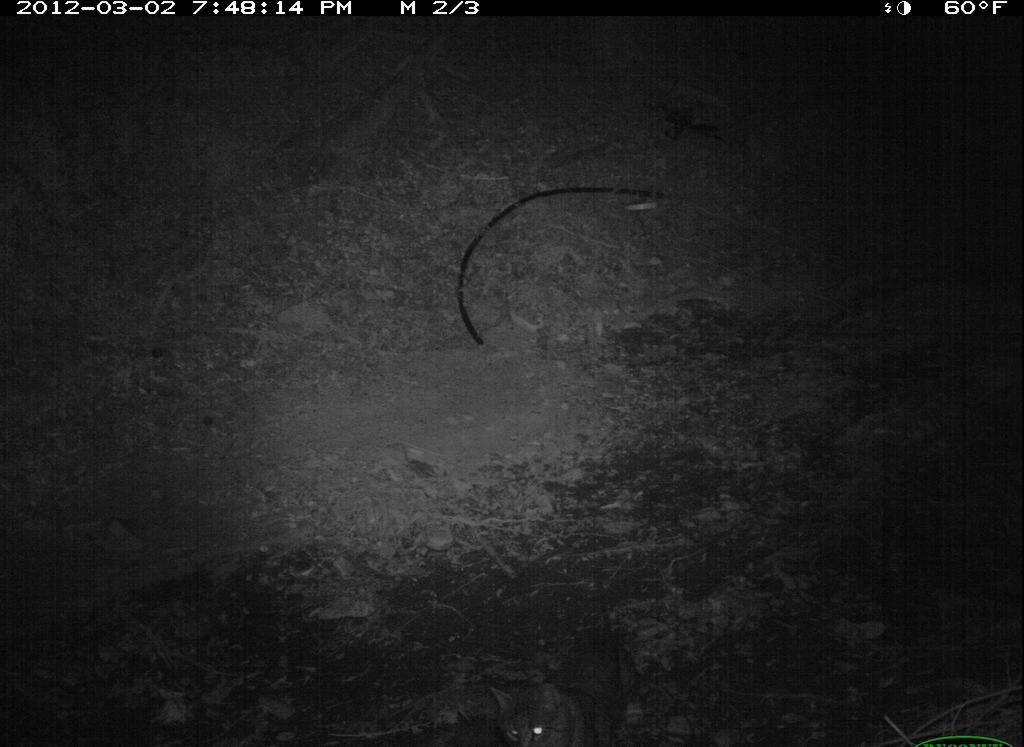cat: (472, 610, 658, 744)
